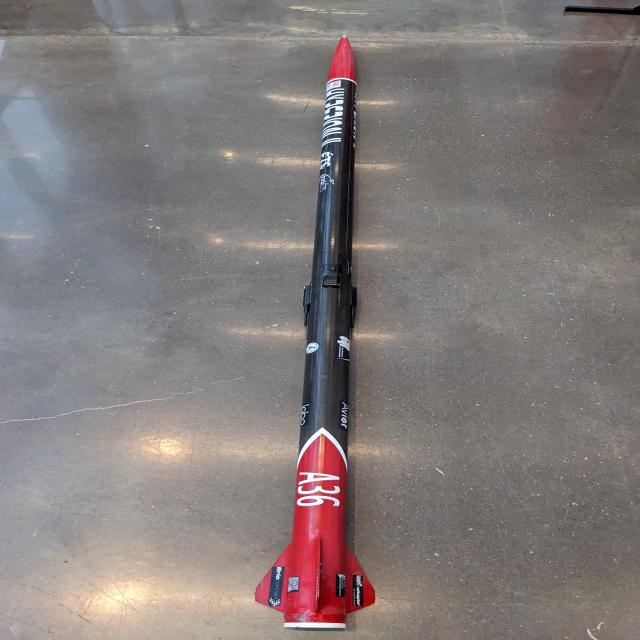Rocket: (254, 33, 376, 628)
